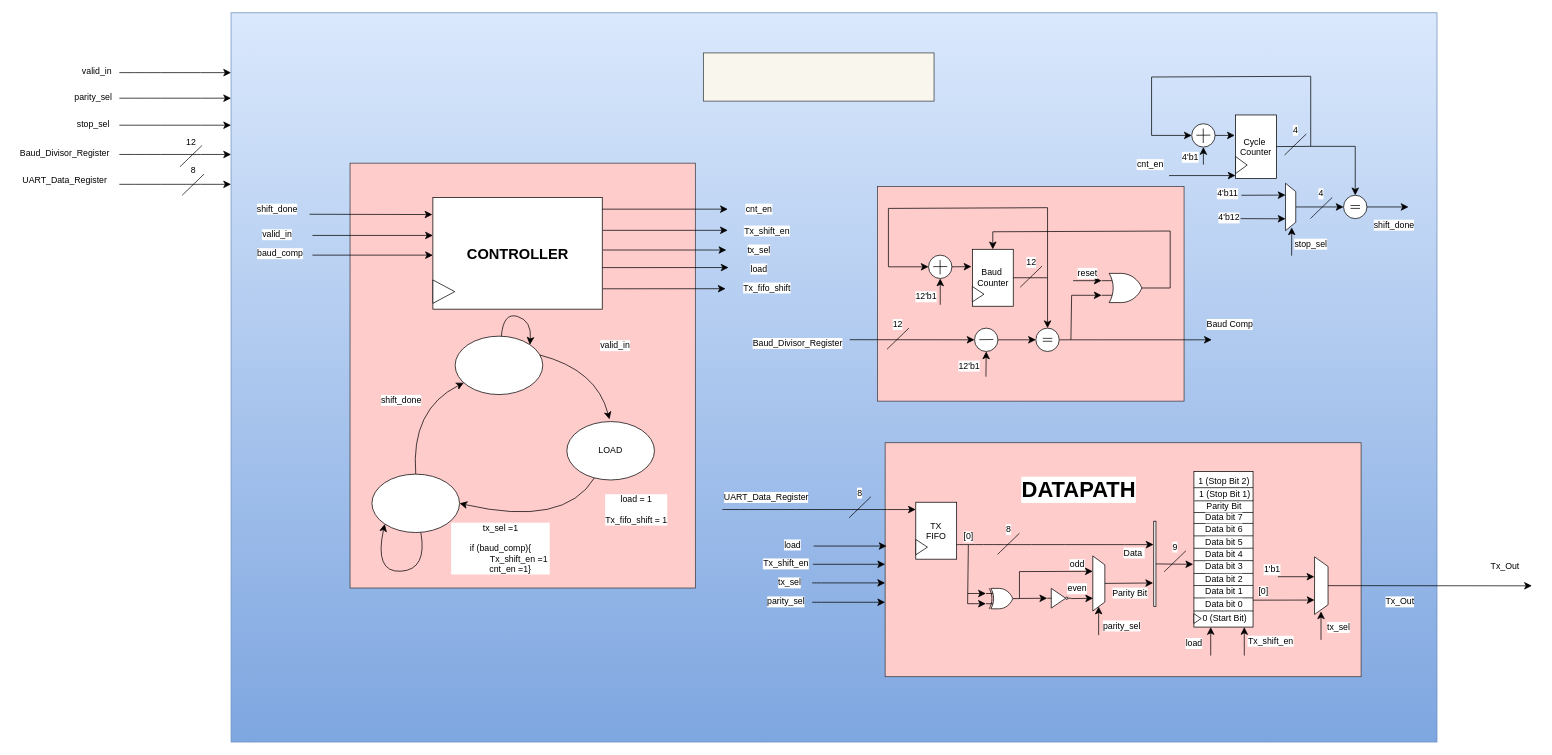
This 1552x755 diagram has some shape labels left out. Each missing label, with the centre of its shape:
"IDLE" goes at pixel 498 365.
"TOP MODULE" goes at pixel 818 76.
"TRANSMIT" goes at pixel 415 503.
